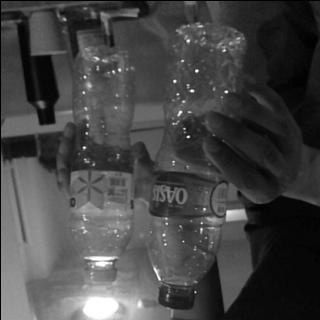plastic_bottles: (146, 17, 246, 310), (70, 44, 138, 284)
